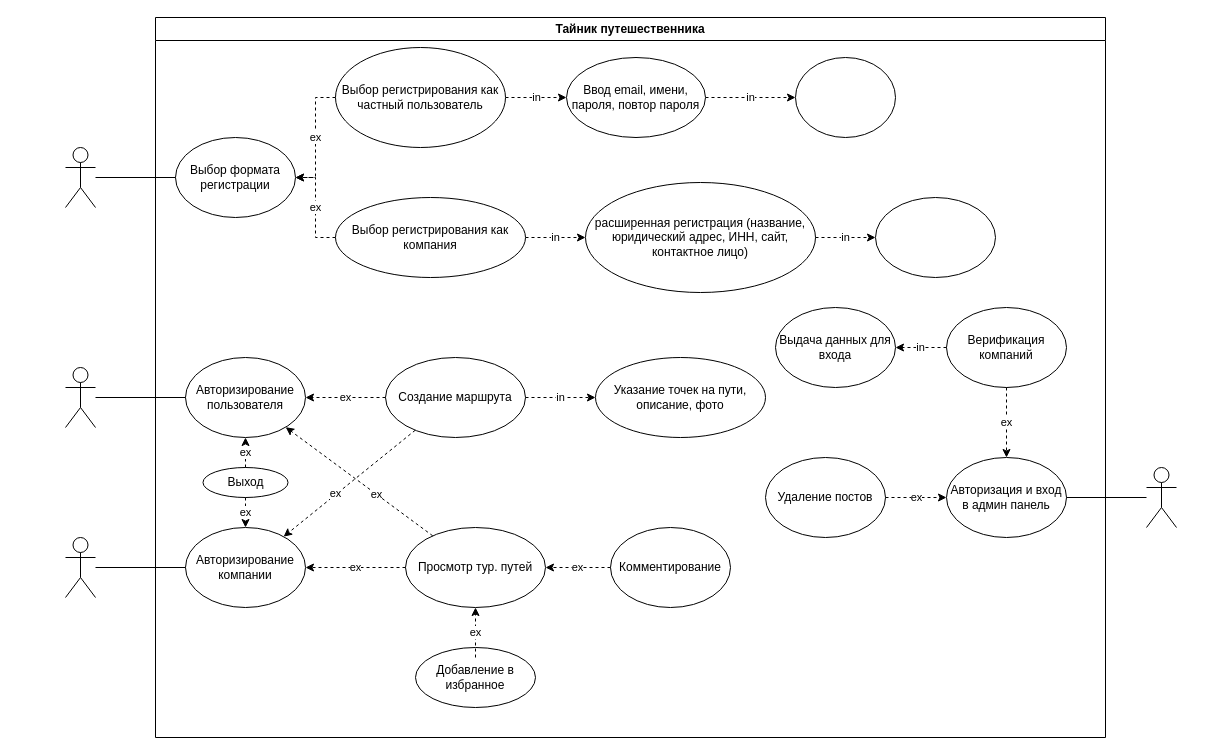
Image size: 1222x755. Some labels were removed from this diagram. The shapes that lost their labels are listed below. From the top down, each one's centre as x and y in pixels, then its label:
(845,97): Авторизация
(80,177): Гость
(935,237): Ожидание прохождения верификации
(80,397): Частный пользователь
(1161,497): Администратор
(80,567): Компания
